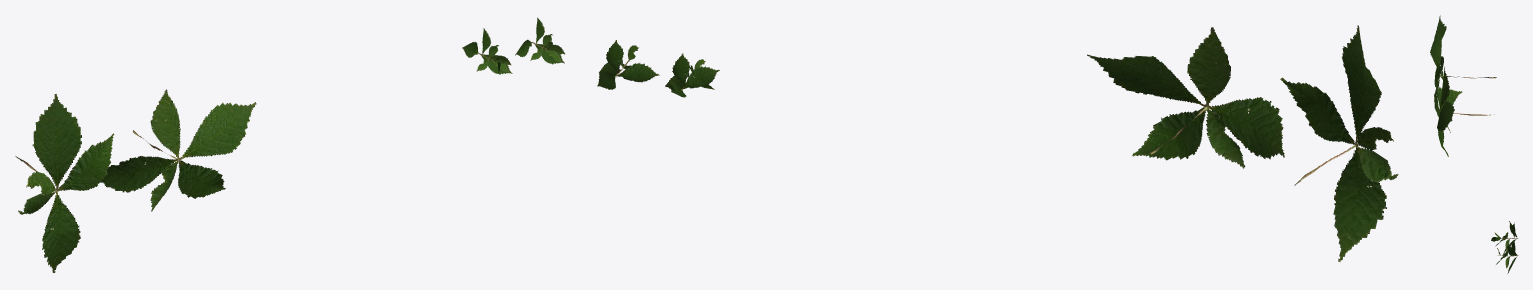
Rendered from plant_leaf.glb.
3 renders of one model, left to right at view 1: azimuth 30°, elevation 25°; view 2: azimuth 150°, elevation 25°; view 3: azimuth 270°, elevation 25°, orthographic. The views are drawn at different scales.
Visible parts, largest first — view 1: Object_3; view 2: Object_3; view 3: Object_3.
Part boxes in pixels (x1,y1,x2,y2): Object_3: (15,17,564,272); Object_3: (597,25,1398,261); Object_3: (1430,15,1518,273).
Size of the model in its own units: 3.8 by 1.17 by 0.8006.
1 material, 1 textured.
